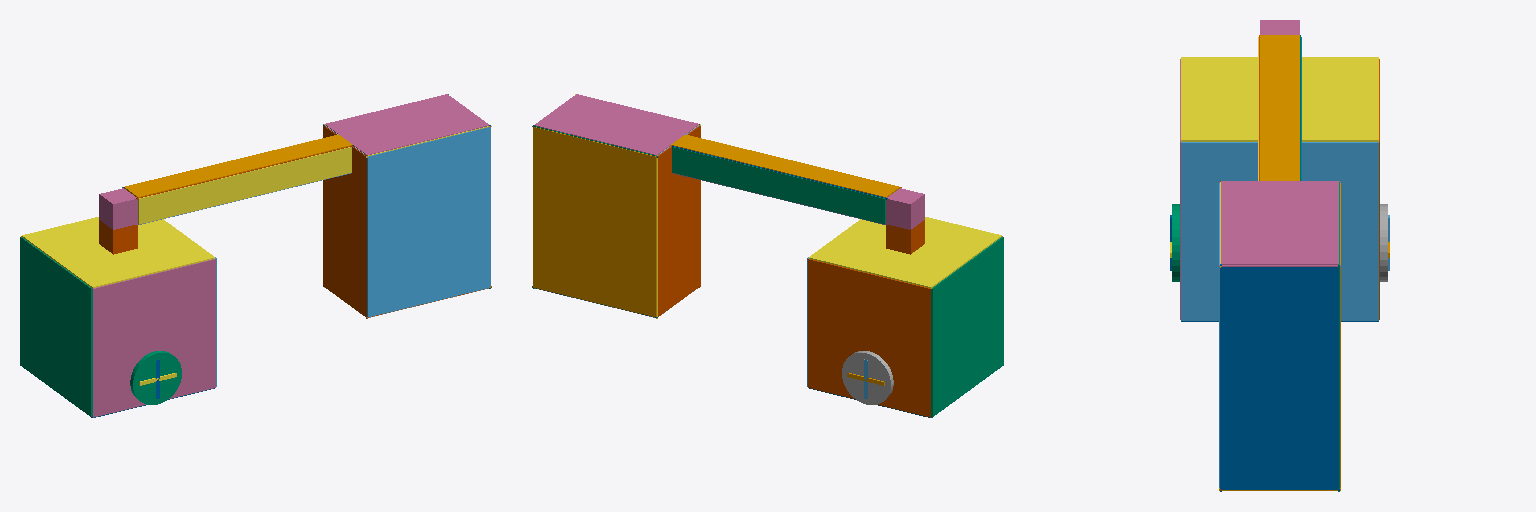
--- Render facts (derived) ---
The picture shows the robot from 3 angles, left to right: view 1: azimuth 30°, elevation 25°; view 2: azimuth 150°, elevation 25°; view 3: azimuth 270°, elevation 25°; orthographic projection.
Robot: robot — 55 links, 54 joints (4 continuous, 50 fixed); root link body; default pose: every joint at zero.
Visible links, largest first — view 1: hand_sensor_0_right, body_sensor_0_right, body_sensor_0_stop, body_sensor_0_top, hand_sensor_0_stop, arm_sensor_0_right, hand_sensor_0_top, arm_sensor_0_top, right_wheel, joint_2, joint_1; view 2: hand_sensor_0_left, body_sensor_0_left, body_sensor_0_stop, body_sensor_0_top, hand_sensor_0_stop, arm_sensor_0_left, hand_sensor_0_top, arm_sensor_0_top, left_wheel, joint_2, joint_1; view 3: hand_sensor_0_start, body_sensor_0_start, body_sensor_0_top, hand_sensor_0_top, arm_sensor_0_top, left_wheel, right_wheel, joint_2.
Boxes of the visible links, bbox=[...] form: hand_sensor_0_right: bbox=[367, 127, 490, 316]; body_sensor_0_right: bbox=[93, 259, 215, 417]; body_sensor_0_stop: bbox=[20, 237, 92, 416]; body_sensor_0_top: bbox=[22, 217, 214, 288]; hand_sensor_0_stop: bbox=[323, 126, 365, 316]; arm_sensor_0_right: bbox=[138, 147, 351, 224]; hand_sensor_0_top: bbox=[325, 94, 488, 154]; arm_sensor_0_top: bbox=[124, 135, 352, 197]; right_wheel: bbox=[130, 351, 181, 404]; joint_2: bbox=[99, 188, 137, 229]; joint_1: bbox=[99, 220, 137, 254]; hand_sensor_0_left: bbox=[533, 127, 656, 316]; body_sensor_0_left: bbox=[808, 259, 930, 417]; body_sensor_0_stop: bbox=[931, 237, 1003, 416]; body_sensor_0_top: bbox=[809, 217, 1001, 288]; hand_sensor_0_stop: bbox=[658, 126, 700, 316]; arm_sensor_0_left: bbox=[672, 147, 885, 224]; hand_sensor_0_top: bbox=[535, 94, 698, 154]; arm_sensor_0_top: bbox=[671, 135, 899, 197]; left_wheel: bbox=[842, 351, 893, 404]; joint_2: bbox=[886, 188, 924, 229]; joint_1: bbox=[886, 220, 924, 254]; hand_sensor_0_start: bbox=[1221, 267, 1338, 489]; body_sensor_0_start: bbox=[1181, 142, 1378, 320]; body_sensor_0_top: bbox=[1181, 57, 1378, 141]; hand_sensor_0_top: bbox=[1221, 181, 1338, 264]; arm_sensor_0_top: bbox=[1260, 35, 1299, 180]; left_wheel: bbox=[1380, 204, 1387, 281]; right_wheel: bbox=[1172, 204, 1179, 281]; joint_2: bbox=[1260, 20, 1299, 34].
Bounding box of the posed robot: 3.37 × 1.12 × 1.42 m (x, y, z).
Geometry: primitives only (box / cylinder / sphere), no mesh files.

URDF robot description (robot):
<?xml version="1.0"?>
    <robot name="robot">


    <!-- body -->
    <link name="body">
        <inertial>
            <origin xyz="0 0 0" rpy="0 0 0"/>
            <mass value="100"/>
            <inertia ixx="15" ixy="0" ixz="0" iyy="15" iyz="0" izz="15"/>
        </inertial>
        <visual>
            <origin xyz="0 0 0" rpy="0 0 0"/>
            <geometry>
                <box size="1 1 1"/>
            </geometry>
        </visual>
        <collision>
            <origin xyz="0 0 0" rpy="0 0 0"/>
            <geometry>
                <box size="1 1 1"/>
            </geometry>
        </collision>
    </link>


    <!-- body_sensor_0_start -->
    <link name="body_sensor_0_start">
        <inertial>
            <origin xyz="0 0 0" rpy="0 0 0"/>
            <mass value="0"/>
            <inertia ixx="0" ixy="0" ixz="0" iyy="0" iyz="0" izz="0"/>
        </inertial>
        <visual>
            <origin xyz="0 0 0" rpy="0 0 0"/>
            <geometry>
                <box size="0.02 1 1"/>
            </geometry>
        </visual>
        <collision>
            <origin xyz="0 0 0" rpy="0 0 0"/>
            <geometry>
                <box size="0.02 1 1"/>
            </geometry>
        </collision>
    </link>
    <!-- Joint: body, body_sensor_0_start -->
    <joint name="body_body_sensor_0_start_joint" type="fixed">
        <parent link="body"/>
        <child link="body_sensor_0_start"/>
        <origin xyz="0.5 0 0"
                rpy="0 0 0"/>
        <axis xyz="0 0 1"/>
        
    </joint>


    <!-- body_sensor_0_stop -->
    <link name="body_sensor_0_stop">
        <inertial>
            <origin xyz="0 0 0" rpy="0 0 0"/>
            <mass value="0"/>
            <inertia ixx="0" ixy="0" ixz="0" iyy="0" iyz="0" izz="0"/>
        </inertial>
        <visual>
            <origin xyz="0 0 0" rpy="0 0 0"/>
            <geometry>
                <box size="0.02 1 1"/>
            </geometry>
        </visual>
        <collision>
            <origin xyz="0 0 0" rpy="0 0 0"/>
            <geometry>
                <box size="0.02 1 1"/>
            </geometry>
        </collision>
    </link>
    <!-- Joint: body, body_sensor_0_stop -->
    <joint name="body_body_sensor_0_stop_joint" type="fixed">
        <parent link="body"/>
        <child link="body_sensor_0_stop"/>
        <origin xyz="-0.5 0 0"
                rpy="0 0 0"/>
        <axis xyz="0 0 1"/>
        
    </joint>


    <!-- body_sensor_0_top -->
    <link name="body_sensor_0_top">
        <inertial>
            <origin xyz="0 0 0" rpy="0 0 0"/>
            <mass value="0"/>
            <inertia ixx="0" ixy="0" ixz="0" iyy="0" iyz="0" izz="0"/>
        </inertial>
        <visual>
            <origin xyz="0 0 0" rpy="0 0 0"/>
            <geometry>
                <box size="1.0 1 0.02"/>
            </geometry>
        </visual>
        <collision>
            <origin xyz="0 0 0" rpy="0 0 0"/>
            <geometry>
                <box size="1.0 1 0.02"/>
            </geometry>
        </collision>
    </link>
    <!-- Joint: body, body_sensor_0_top -->
    <joint name="body_body_sensor_0_top_joint" type="fixed">
        <parent link="body"/>
        <child link="body_sensor_0_top"/>
        <origin xyz="0 0 0.5"
                rpy="0 0 0"/>
        <axis xyz="0 0 1"/>
        
    </joint>


    <!-- body_sensor_0_bottom -->
    <link name="body_sensor_0_bottom">
        <inertial>
            <origin xyz="0 0 0" rpy="0 0 0"/>
            <mass value="0"/>
            <inertia ixx="0" ixy="0" ixz="0" iyy="0" iyz="0" izz="0"/>
        </inertial>
        <visual>
            <origin xyz="0 0 0" rpy="0 0 0"/>
            <geometry>
                <box size="1.0 1 0.02"/>
            </geometry>
        </visual>
        <collision>
            <origin xyz="0 0 0" rpy="0 0 0"/>
            <geometry>
                <box size="1.0 1 0.02"/>
            </geometry>
        </collision>
    </link>
    <!-- Joint: body, body_sensor_0_bottom -->
    <joint name="body_body_sensor_0_bottom_joint" type="fixed">
        <parent link="body"/>
        <child link="body_sensor_0_bottom"/>
        <origin xyz="0 0 -0.5"
                rpy="0 0 0"/>
        <axis xyz="0 0 1"/>
        
    </joint>


    <!-- body_sensor_0_left -->
    <link name="body_sensor_0_left">
        <inertial>
            <origin xyz="0 0 0" rpy="0 0 0"/>
            <mass value="0"/>
            <inertia ixx="0" ixy="0" ixz="0" iyy="0" iyz="0" izz="0"/>
        </inertial>
        <visual>
            <origin xyz="0 0 0" rpy="0 0 0"/>
            <geometry>
                <box size="1.0 0.02 1"/>
            </geometry>
        </visual>
        <collision>
            <origin xyz="0 0 0" rpy="0 0 0"/>
            <geometry>
                <box size="1.0 0.02 1"/>
            </geometry>
        </collision>
    </link>
    <!-- Joint: body, body_sensor_0_left -->
    <joint name="body_body_sensor_0_left_joint" type="fixed">
        <parent link="body"/>
        <child link="body_sensor_0_left"/>
        <origin xyz="0 0.5 0"
                rpy="0 0 0"/>
        <axis xyz="0 0 1"/>
        
    </joint>


    <!-- body_sensor_0_right -->
    <link name="body_sensor_0_right">
        <inertial>
            <origin xyz="0 0 0" rpy="0 0 0"/>
            <mass value="0"/>
            <inertia ixx="0" ixy="0" ixz="0" iyy="0" iyz="0" izz="0"/>
        </inertial>
        <visual>
            <origin xyz="0 0 0" rpy="0 0 0"/>
            <geometry>
                <box size="1.0 0.02 1"/>
            </geometry>
        </visual>
        <collision>
            <origin xyz="0 0 0" rpy="0 0 0"/>
            <geometry>
                <box size="1.0 0.02 1"/>
            </geometry>
        </collision>
    </link>
    <!-- Joint: body, body_sensor_0_right -->
    <joint name="body_body_sensor_0_right_joint" type="fixed">
        <parent link="body"/>
        <child link="body_sensor_0_right"/>
        <origin xyz="0 -0.5 0"
                rpy="0 0 0"/>
        <axis xyz="0 0 1"/>
        
    </joint>


    <!-- left_wheel -->
    <link name="left_wheel">
        <inertial>
            <origin xyz="0 0 0" rpy="0 0 0"/>
            <mass value="0.1"/>
            <inertia ixx="0" ixy="0" ixz="0" iyy="0" iyz="0" izz="0"/>
        </inertial>
        <visual>
            <origin xyz="0 0 0" rpy="0 0 0"/>
            <geometry>
                <cylinder radius="0.2" length="0.1"/>
            </geometry>
        </visual>
        <collision>
            <origin xyz="0 0 0" rpy="0 0 0"/>
            <geometry>
                <cylinder radius="0.2" length="0.1"/>
            </geometry>
        </collision>
    </link>
    <!-- Joint: body, left_wheel -->
    <joint name="body_left_wheel_joint" type="continuous">
        <parent link="body"/>
        <child link="left_wheel"/>
        <origin xyz="0 0.5 -0.3"
                rpy="1.5708 0 0"/>
        <axis xyz="0 0 1"/>
        <limit lower="0" upper="0" effort="0" velocity="0"/>
    </joint>


    <!-- left_spoke_1 -->
    <link name="left_spoke_1">
        <inertial>
            <origin xyz="0 0 0" rpy="0 0 0"/>
            <mass value="0"/>
            <inertia ixx="0" ixy="0" ixz="0" iyy="0" iyz="0" izz="0"/>
        </inertial>
        <visual>
            <origin xyz="0 0 0" rpy="0 0 0"/>
            <geometry>
                <box size="0.3 0.03 0.1"/>
            </geometry>
        </visual>
        <collision>
            <origin xyz="0 0 0" rpy="0 0 0"/>
            <geometry>
                <box size="0.3 0.03 0.1"/>
            </geometry>
        </collision>
    </link>
    <!-- Joint: left_wheel, left_spoke_1 -->
    <joint name="left_wheel_left_spoke_1_joint" type="fixed">
        <parent link="left_wheel"/>
        <child link="left_spoke_1"/>
        <origin xyz="0 0 -0.01"
                rpy="0 0 0"/>
        <axis xyz="0 0 1"/>
        
    </joint>


    <!-- left_spoke_2 -->
    <link name="left_spoke_2">
        <inertial>
            <origin xyz="0 0 0" rpy="0 0 0"/>
            <mass value="0"/>
            <inertia ixx="0" ixy="0" ixz="0" iyy="0" iyz="0" izz="0"/>
        </inertial>
        <visual>
            <origin xyz="0 0 0" rpy="0 0 0"/>
            <geometry>
                <box size="0.03 0.3 0.1"/>
            </geometry>
        </visual>
        <collision>
            <origin xyz="0 0 0" rpy="0 0 0"/>
            <geometry>
                <box size="0.03 0.3 0.1"/>
            </geometry>
        </collision>
    </link>
    <!-- Joint: left_wheel, left_spoke_2 -->
    <joint name="left_wheel_left_spoke_2_joint" type="fixed">
        <parent link="left_wheel"/>
        <child link="left_spoke_2"/>
        <origin xyz="0 0 -0.01"
                rpy="0 0 0"/>
        <axis xyz="0 0 1"/>
        
    </joint>


    <!-- right_wheel -->
    <link name="right_wheel">
        <inertial>
            <origin xyz="0 0 0" rpy="0 0 0"/>
            <mass value="0.1"/>
            <inertia ixx="0" ixy="0" ixz="0" iyy="0" iyz="0" izz="0"/>
        </inertial>
        <visual>
            <origin xyz="0 0 0" rpy="0 0 0"/>
            <geometry>
                <cylinder radius="0.2" length="0.1"/>
            </geometry>
        </visual>
        <collision>
            <origin xyz="0 0 0" rpy="0 0 0"/>
            <geometry>
                <cylinder radius="0.2" length="0.1"/>
            </geometry>
        </collision>
    </link>
    <!-- Joint: body, right_wheel -->
    <joint name="body_right_wheel_joint" type="continuous">
        <parent link="body"/>
        <child link="right_wheel"/>
        <origin xyz="0 -0.5 -0.3"
                rpy="1.5708 0 0"/>
        <axis xyz="0 0 1"/>
        <limit lower="0" upper="0" effort="0" velocity="0"/>
    </joint>


    <!-- right_spoke_1 -->
    <link name="right_spoke_1">
        <inertial>
            <origin xyz="0 0 0" rpy="0 0 0"/>
            <mass value="0"/>
            <inertia ixx="0" ixy="0" ixz="0" iyy="0" iyz="0" izz="0"/>
        </inertial>
        <visual>
            <origin xyz="0 0 0" rpy="0 0 0"/>
            <geometry>
                <box size="0.3 0.03 0.1"/>
            </geometry>
        </visual>
        <collision>
            <origin xyz="0 0 0" rpy="0 0 0"/>
            <geometry>
                <box size="0.3 0.03 0.1"/>
            </geometry>
        </collision>
    </link>
    <!-- Joint: right_wheel, right_spoke_1 -->
    <joint name="right_wheel_right_spoke_1_joint" type="fixed">
        <parent link="right_wheel"/>
        <child link="right_spoke_1"/>
        <origin xyz="0 0 0.01"
                rpy="0 0 0"/>
        <axis xyz="0 0 1"/>
        
    </joint>


    <!-- right_spoke_2 -->
    <link name="right_spoke_2">
        <inertial>
            <origin xyz="0 0 0" rpy="0 0 0"/>
            <mass value="0"/>
            <inertia ixx="0" ixy="0" ixz="0" iyy="0" iyz="0" izz="0"/>
        </inertial>
        <visual>
            <origin xyz="0 0 0" rpy="0 0 0"/>
            <geometry>
                <box size="0.03 0.3 0.1"/>
            </geometry>
        </visual>
        <collision>
            <origin xyz="0 0 0" rpy="0 0 0"/>
            <geometry>
                <box size="0.03 0.3 0.1"/>
            </geometry>
        </collision>
    </link>
    <!-- Joint: right_wheel, right_spoke_2 -->
    <joint name="right_wheel_right_spoke_2_joint" type="fixed">
        <parent link="right_wheel"/>
        <child link="right_spoke_2"/>
        <origin xyz="0 0 0.01"
                rpy="0 0 0"/>
        <axis xyz="0 0 1"/>
        
    </joint>


    <!-- joint_1 -->
    <link name="joint_1">
        <inertial>
            <origin xyz="0 0 0" rpy="0 0 0"/>
            <mass value="2"/>
            <inertia ixx="0.01" ixy="0" ixz="0" iyy="0.01" iyz="0" izz="0.01"/>
        </inertial>
        <visual>
            <origin xyz="0 0 0" rpy="0 0 0"/>
            <geometry>
                <box size="0.2 0.2 0.2"/>
            </geometry>
        </visual>
        <collision>
            <origin xyz="0 0 0" rpy="0 0 0"/>
            <geometry>
                <box size="0.2 0.2 0.2"/>
            </geometry>
        </collision>
    </link>
    <!-- Joint: body, joint_1 -->
    <joint name="body_joint_1_joint" type="continuous">
        <parent link="body"/>
        <child link="joint_1"/>
        <origin xyz="0 0 0.6"
                rpy="0 0 0"/>
        <axis xyz="0 0 1"/>
        <limit lower="-0.7853981633974483" upper="0.7853981633974483" effort="999" velocity="999"/>
    </joint>


    <!-- joint_2 -->
    <link name="joint_2">
        <inertial>
            <origin xyz="0 0 0" rpy="0 0 0"/>
            <mass value="2"/>
            <inertia ixx="0.01" ixy="0" ixz="0" iyy="0.01" iyz="0" izz="0.01"/>
        </inertial>
        <visual>
            <origin xyz="0 0 0" rpy="0 0 0"/>
            <geometry>
                <box size="0.2 0.2 0.2"/>
            </geometry>
        </visual>
        <collision>
            <origin xyz="0 0 0" rpy="0 0 0"/>
            <geometry>
                <box size="0.2 0.2 0.2"/>
            </geometry>
        </collision>
    </link>
    <!-- Joint: joint_1, joint_2 -->
    <joint name="joint_1_joint_2_joint" type="continuous">
        <parent link="joint_1"/>
        <child link="joint_2"/>
        <origin xyz="0 0 0.2"
                rpy="0 0 0"/>
        <axis xyz="0 1 0"/>
        <limit lower="-1.5707963267948966" upper="0" effort="999" velocity="999"/>
    </joint>


    <!-- arm -->
    <link name="arm">
        <inertial>
            <origin xyz="0 0 0" rpy="0 0 0"/>
            <mass value="2"/>
            <inertia ixx="0.01" ixy="0" ixz="0" iyy="1.25" iyz="0" izz="1.25"/>
        </inertial>
        <visual>
            <origin xyz="0 0 0" rpy="0 0 0"/>
            <geometry>
                <box size="1.75 0.2 0.2"/>
            </geometry>
        </visual>
        <collision>
            <origin xyz="0 0 0" rpy="0 0 0"/>
            <geometry>
                <box size="1.75 0.2 0.2"/>
            </geometry>
        </collision>
    </link>


    <!-- arm_sensor_0_top -->
    <link name="arm_sensor_0_top">
        <inertial>
            <origin xyz="0 0 0" rpy="0 0 0"/>
            <mass value="0"/>
            <inertia ixx="0" ixy="0" ixz="0" iyy="0" iyz="0" izz="0"/>
        </inertial>
        <visual>
            <origin xyz="0 0 0" rpy="0 0 0"/>
            <geometry>
                <box size="1.75 0.2 0.02"/>
            </geometry>
        </visual>
        <collision>
            <origin xyz="0 0 0" rpy="0 0 0"/>
            <geometry>
                <box size="1.75 0.2 0.02"/>
            </geometry>
        </collision>
    </link>
    <!-- Joint: arm, arm_sensor_0_top -->
    <joint name="arm_arm_sensor_0_top_joint" type="fixed">
        <parent link="arm"/>
        <child link="arm_sensor_0_top"/>
        <origin xyz="0 0 0.1"
                rpy="0 0 0"/>
        <axis xyz="0 1 0"/>
        
    </joint>


    <!-- arm_sensor_0_bottom -->
    <link name="arm_sensor_0_bottom">
        <inertial>
            <origin xyz="0 0 0" rpy="0 0 0"/>
            <mass value="0"/>
            <inertia ixx="0" ixy="0" ixz="0" iyy="0" iyz="0" izz="0"/>
        </inertial>
        <visual>
            <origin xyz="0 0 0" rpy="0 0 0"/>
            <geometry>
                <box size="1.75 0.2 0.02"/>
            </geometry>
        </visual>
        <collision>
            <origin xyz="0 0 0" rpy="0 0 0"/>
            <geometry>
                <box size="1.75 0.2 0.02"/>
            </geometry>
        </collision>
    </link>
    <!-- Joint: arm, arm_sensor_0_bottom -->
    <joint name="arm_arm_sensor_0_bottom_joint" type="fixed">
        <parent link="arm"/>
        <child link="arm_sensor_0_bottom"/>
        <origin xyz="0 0 -0.1"
                rpy="0 0 0"/>
        <axis xyz="0 1 0"/>
        
    </joint>


    <!-- arm_sensor_0_left -->
    <link name="arm_sensor_0_left">
        <inertial>
            <origin xyz="0 0 0" rpy="0 0 0"/>
            <mass value="0"/>
            <inertia ixx="0" ixy="0" ixz="0" iyy="0" iyz="0" izz="0"/>
        </inertial>
        <visual>
            <origin xyz="0 0 0" rpy="0 0 0"/>
            <geometry>
                <box size="1.75 0.02 0.2"/>
            </geometry>
        </visual>
        <collision>
            <origin xyz="0 0 0" rpy="0 0 0"/>
            <geometry>
                <box size="1.75 0.02 0.2"/>
            </geometry>
        </collision>
    </link>
    <!-- Joint: arm, arm_sensor_0_left -->
    <joint name="arm_arm_sensor_0_left_joint" type="fixed">
        <parent link="arm"/>
        <child link="arm_sensor_0_left"/>
        <origin xyz="0 0.1 0"
                rpy="0 0 0"/>
        <axis xyz="0 1 0"/>
        
    </joint>


    <!-- arm_sensor_0_right -->
    <link name="arm_sensor_0_right">
        <inertial>
            <origin xyz="0 0 0" rpy="0 0 0"/>
            <mass value="0"/>
            <inertia ixx="0" ixy="0" ixz="0" iyy="0" iyz="0" izz="0"/>
        </inertial>
        <visual>
            <origin xyz="0 0 0" rpy="0 0 0"/>
            <geometry>
                <box size="1.75 0.02 0.2"/>
            </geometry>
        </visual>
        <collision>
            <origin xyz="0 0 0" rpy="0 0 0"/>
            <geometry>
                <box size="1.75 0.02 0.2"/>
            </geometry>
        </collision>
    </link>
    <!-- Joint: arm, arm_sensor_0_right -->
    <joint name="arm_arm_sensor_0_right_joint" type="fixed">
        <parent link="arm"/>
        <child link="arm_sensor_0_right"/>
        <origin xyz="0 -0.1 0"
                rpy="0 0 0"/>
        <axis xyz="0 1 0"/>
        
    </joint>
    <!-- Joint: joint_2, arm -->
    <joint name="joint_2_arm_joint" type="fixed">
        <parent link="joint_2"/>
        <child link="arm"/>
        <origin xyz="0.975 0 0"
                rpy="0 0 0"/>
        <axis xyz="0 1 0"/>
        
    </joint>


    <!-- arm_outline_1 -->
    <link name="arm_outline_1">
        <inertial>
            <origin xyz="0 0 0" rpy="0 0 0"/>
            <mass value="0"/>
            <inertia ixx="0" ixy="0" ixz="0" iyy="0" iyz="0" izz="0"/>
        </inertial>
        <visual>
            <origin xyz="0 0 0" rpy="0 0 0"/>
            <geometry>
                <box size="1.77 0.01 0.01"/>
            </geometry>
        </visual>
        <collision>
            <origin xyz="0 0 0" rpy="0 0 0"/>
            <geometry>
                <box size="1.77 0.01 0.01"/>
            </geometry>
        </collision>
    </link>
    <!-- Joint: arm, arm_outline_1 -->
    <joint name="arm_arm_outline_1_joint" type="fixed">
        <parent link="arm"/>
        <child link="arm_outline_1"/>
        <origin xyz="0 0.1 0.1"
                rpy="0 0 0"/>
        <axis xyz="0 1 0"/>
        
    </joint>


    <!-- arm_outline_2 -->
    <link name="arm_outline_2">
        <inertial>
            <origin xyz="0 0 0" rpy="0 0 0"/>
            <mass value="0"/>
            <inertia ixx="0" ixy="0" ixz="0" iyy="0" iyz="0" izz="0"/>
        </inertial>
        <visual>
            <origin xyz="0 0 0" rpy="0 0 0"/>
            <geometry>
                <box size="1.77 0.01 0.01"/>
            </geometry>
        </visual>
        <collision>
            <origin xyz="0 0 0" rpy="0 0 0"/>
            <geometry>
                <box size="1.77 0.01 0.01"/>
            </geometry>
        </collision>
    </link>
    <!-- Joint: arm, arm_outline_2 -->
    <joint name="arm_arm_outline_2_joint" type="fixed">
        <parent link="arm"/>
        <child link="arm_outline_2"/>
        <origin xyz="0 -0.1 0.1"
                rpy="0 0 0"/>
        <axis xyz="0 1 0"/>
        
    </joint>


    <!-- arm_outline_3 -->
    <link name="arm_outline_3">
        <inertial>
            <origin xyz="0 0 0" rpy="0 0 0"/>
            <mass value="0"/>
            <inertia ixx="0" ixy="0" ixz="0" iyy="0" iyz="0" izz="0"/>
        </inertial>
        <visual>
            <origin xyz="0 0 0" rpy="0 0 0"/>
            <geometry>
                <box size="1.77 0.01 0.01"/>
            </geometry>
        </visual>
        <collision>
            <origin xyz="0 0 0" rpy="0 0 0"/>
            <geometry>
                <box size="1.77 0.01 0.01"/>
            </geometry>
        </collision>
    </link>
    <!-- Joint: arm, arm_outline_3 -->
    <joint name="arm_arm_outline_3_joint" type="fixed">
        <parent link="arm"/>
        <child link="arm_outline_3"/>
        <origin xyz="0 0.1 -0.1"
                rpy="0 0 0"/>
        <axis xyz="0 1 0"/>
        
    </joint>


    <!-- arm_outline_4 -->
    <link name="arm_outline_4">
        <inertial>
            <origin xyz="0 0 0" rpy="0 0 0"/>
            <mass value="0"/>
            <inertia ixx="0" ixy="0" ixz="0" iyy="0" iyz="0" izz="0"/>
        </inertial>
        <visual>
            <origin xyz="0 0 0" rpy="0 0 0"/>
            <geometry>
                <box size="1.77 0.01 0.01"/>
            </geometry>
        </visual>
        <collision>
            <origin xyz="0 0 0" rpy="0 0 0"/>
            <geometry>
                <box size="1.77 0.01 0.01"/>
            </geometry>
        </collision>
    </link>
    <!-- Joint: arm, arm_outline_4 -->
    <joint name="arm_arm_outline_4_joint" type="fixed">
        <parent link="arm"/>
        <child link="arm_outline_4"/>
        <origin xyz="0 -0.1 -0.1"
                rpy="0 0 0"/>
        <axis xyz="0 1 0"/>
        
    </joint>


    <!-- arm_outline_5 -->
    <link name="arm_outline_5">
        <inertial>
            <origin xyz="0 0 0" rpy="0 0 0"/>
            <mass value="0"/>
            <inertia ixx="0" ixy="0" ixz="0" iyy="0" iyz="0" izz="0"/>
        </inertial>
        <visual>
            <origin xyz="0 0 0" rpy="0 0 0"/>
            <geometry>
                <box size="0.01 0.01 0.22"/>
            </geometry>
        </visual>
        <collision>
            <origin xyz="0 0 0" rpy="0 0 0"/>
            <geometry>
                <box size="0.01 0.01 0.22"/>
            </geometry>
        </collision>
    </link>
    <!-- Joint: arm, arm_outline_5 -->
    <joint name="arm_arm_outline_5_joint" type="fixed">
        <parent link="arm"/>
        <child link="arm_outline_5"/>
        <origin xyz="0.875 0.1 0"
                rpy="0 0 0"/>
        <axis xyz="0 1 0"/>
        
    </joint>


    <!-- arm_outline_6 -->
    <link name="arm_outline_6">
        <inertial>
            <origin xyz="0 0 0" rpy="0 0 0"/>
            <mass value="0"/>
            <inertia ixx="0" ixy="0" ixz="0" iyy="0" iyz="0" izz="0"/>
        </inertial>
        <visual>
            <origin xyz="0 0 0" rpy="0 0 0"/>
            <geometry>
                <box size="0.01 0.01 0.22"/>
            </geometry>
        </visual>
        <collision>
            <origin xyz="0 0 0" rpy="0 0 0"/>
            <geometry>
                <box size="0.01 0.01 0.22"/>
            </geometry>
        </collision>
    </link>
    <!-- Joint: arm, arm_outline_6 -->
    <joint name="arm_arm_outline_6_joint" type="fixed">
        <parent link="arm"/>
        <child link="arm_outline_6"/>
        <origin xyz="0.875 -0.1 0"
                rpy="0 0 0"/>
        <axis xyz="0 1 0"/>
        
    </joint>


    <!-- arm_outline_7 -->
    <link name="arm_outline_7">
        <inertial>
            <origin xyz="0 0 0" rpy="0 0 0"/>
            <mass value="0"/>
            <inertia ixx="0" ixy="0" ixz="0" iyy="0" iyz="0" izz="0"/>
        </inertial>
        <visual>
            <origin xyz="0 0 0" rpy="0 0 0"/>
            <geometry>
                <box size="0.01 0.22 0.01"/>
            </geometry>
        </visual>
        <collision>
            <origin xyz="0 0 0" rpy="0 0 0"/>
            <geometry>
                <box size="0.01 0.22 0.01"/>
            </geometry>
        </collision>
    </link>
    <!-- Joint: arm, arm_outline_7 -->
    <joint name="arm_arm_outline_7_joint" type="fixed">
        <parent link="arm"/>
        <child link="arm_outline_7"/>
        <origin xyz="0.875 0 -0.1"
                rpy="0 0 0"/>
        <axis xyz="0 1 0"/>
        
    </joint>


    <!-- hand -->
    <link name="hand">
        <inertial>
            <origin xyz="0 0 0" rpy="0 0 0"/>
            <mass value="2"/>
            <inertia ixx="0.3" ixy="0" ixz="0" iyy="0.4" iyz="0" izz="0.2"/>
        </inertial>
        <visual>
            <origin xyz="0 0 0" rpy="0 0 0"/>
            <geometry>
                <box size="1 0.6000000000000001 1.25"/>
            </geometry>
        </visual>
        <collision>
            <origin xyz="0 0 0" rpy="0 0 0"/>
            <geometry>
                <box size="1 0.6000000000000001 1.25"/>
            </geometry>
        </collision>
    </link>


    <!-- hand_sensor_0_start -->
    <link name="hand_sensor_0_start">
        <inertial>
            <origin xyz="0 0 0" rpy="0 0 0"/>
            <mass value="0"/>
            <inertia ixx="0" ixy="0" ixz="0" iyy="0" iyz="0" izz="0"/>
        </inertial>
        <visual>
            <origin xyz="0 0 0" rpy="0 0 0"/>
            <geometry>
                <box size="0.02 0.6000000000000001 1.25"/>
            </geometry>
        </visual>
        <collision>
            <origin xyz="0 0 0" rpy="0 0 0"/>
            <geometry>
                <box size="0.02 0.6000000000000001 1.25"/>
            </geometry>
        </collision>
    </link>
    <!-- Joint: hand, hand_sensor_0_start -->
    <joint name="hand_hand_sensor_0_start_joint" type="fixed">
        <parent link="hand"/>
        <child link="hand_sensor_0_start"/>
        <origin xyz="0.5 0 0"
                rpy="0 0 0"/>
        <axis xyz="0 1 0"/>
        
    </joint>


    <!-- hand_sensor_0_stop -->
    <link name="hand_sensor_0_stop">
        <inertial>
            <origin xyz="0 0 0" rpy="0 0 0"/>
            <mass value="0"/>
            <inertia ixx="0" ixy="0" ixz="0" iyy="0" iyz="0" izz="0"/>
        </inertial>
        <visual>
            <origin xyz="0 0 0" rpy="0 0 0"/>
            <geometry>
                <box size="0.02 0.6000000000000001 1.25"/>
            </geometry>
        </visual>
        <collision>
            <origin xyz="0 0 0" rpy="0 0 0"/>
            <geometry>
                <box size="0.02 0.6000000000000001 1.25"/>
            </geometry>
        </collision>
    </link>
    <!-- Joint: hand, hand_sensor_0_stop -->
    <joint name="hand_hand_sensor_0_stop_joint" type="fixed">
        <parent link="hand"/>
        <child link="hand_sensor_0_stop"/>
        <origin xyz="-0.5 0 0"
                rpy="0 0 0"/>
        <axis xyz="0 1 0"/>
        
    </joint>


    <!-- hand_sensor_0_top -->
    <link name="hand_sensor_0_top">
        <inertial>
            <origin xyz="0 0 0" rpy="0 0 0"/>
            <mass value="0"/>
            <inertia ixx="0" ixy="0" ixz="0" iyy="0" iyz="0" izz="0"/>
        </inertial>
        <visual>
            <origin xyz="0 0 0" rpy="0 0 0"/>
            <geometry>
                <box size="1.0 0.6000000000000001 0.02"/>
            </geometry>
        </visual>
        <collision>
            <origin xyz="0 0 0" rpy="0 0 0"/>
            <geometry>
                <box size="1.0 0.6000000000000001 0.02"/>
            </geometry>
        </collision>
    </link>
    <!-- Joint: hand, hand_sensor_0_top -->
    <joint name="hand_hand_sensor_0_top_joint" type="fixed">
        <parent link="hand"/>
        <child link="hand_sensor_0_top"/>
        <origin xyz="0 0 0.625"
                rpy="0 0 0"/>
        <axis xyz="0 1 0"/>
        
    </joint>


    <!-- hand_sensor_0_bottom -->
    <link name="hand_sensor_0_bottom">
        <inertial>
            <origin xyz="0 0 0" rpy="0 0 0"/>
            <mass value="0"/>
            <inertia ixx="0" ixy="0" ixz="0" iyy="0" iyz="0" izz="0"/>
        </inertial>
        <visual>
            <origin xyz="0 0 0" rpy="0 0 0"/>
            <geometry>
                <box size="1.0 0.6000000000000001 0.02"/>
            </geometry>
        </visual>
        <collision>
            <origin xyz="0 0 0" rpy="0 0 0"/>
            <geometry>
                <box size="1.0 0.6000000000000001 0.02"/>
            </geometry>
        </collision>
    </link>
    <!-- Joint: hand, hand_sensor_0_bottom -->
    <joint name="hand_hand_sensor_0_bottom_joint" type="fixed">
        <parent link="hand"/>
        <child link="hand_sensor_0_bottom"/>
        <origin xyz="0 0 -0.625"
                rpy="0 0 0"/>
        <axis xyz="0 1 0"/>
        
    </joint>


    <!-- hand_sensor_0_left -->
    <link name="hand_sensor_0_left">
        <inertial>
            <origin xyz="0 0 0" rpy="0 0 0"/>
            <mass value="0"/>
            <inertia ixx="0" ixy="0" ixz="0" iyy="0" iyz="0" izz="0"/>
        </inertial>
        <visual>
            <origin xyz="0 0 0" rpy="0 0 0"/>
            <geometry>
                <box size="1.0 0.02 1.25"/>
            </geometry>
        </visual>
        <collision>
            <origin xyz="0 0 0" rpy="0 0 0"/>
            <geometry>
                <box size="1.0 0.02 1.25"/>
            </geometry>
        </collision>
    </link>
    <!-- Joint: hand, hand_sensor_0_left -->
    <joint name="hand_hand_sensor_0_left_joint" type="fixed">
        <parent link="hand"/>
        <child link="hand_sensor_0_left"/>
        <origin xyz="0 0.30000000000000004 0"
                rpy="0 0 0"/>
        <axis xyz="0 1 0"/>
        
    </joint>


    <!-- hand_sensor_0_right -->
    <link name="hand_sensor_0_right">
        <inertial>
            <origin xyz="0 0 0" rpy="0 0 0"/>
            <mass value="0"/>
            <inertia ixx="0" ixy="0" ixz="0" iyy="0" iyz="0" izz="0"/>
        </inertial>
        <visual>
            <origin xyz="0 0 0" rpy="0 0 0"/>
            <geometry>
                <box size="1.0 0.02 1.25"/>
            </geometry>
        </visual>
        <collision>
            <origin xyz="0 0 0" rpy="0 0 0"/>
            <geometry>
                <box size="1.0 0.02 1.25"/>
            </geometry>
        </collision>
    </link>
    <!-- Joint: hand, hand_sensor_0_right -->
    <joint name="hand_hand_sensor_0_right_joint" type="fixed">
        <parent link="hand"/>
        <child link="hand_sensor_0_right"/>
        <origin xyz="0 -0.30000000000000004 0"
                rpy="0 0 0"/>
        <axis xyz="0 1 0"/>
        
    </joint>
    <!-- Joint: arm, hand -->
    <joint name="arm_hand_joint" type="fixed">
        <parent link="arm"/>
        <child link="hand"/>
        <origin xyz="1.375 0 -0.525"
                rpy="0 0 0"/>
        <axis xyz="0 1 0"/>
        
    </joint>


    <!-- hand_outline_1 -->
    <link name="hand_outline_1">
        <inertial>
            <origin xyz="0 0 0" rpy="0 0 0"/>
            <mass value="0"/>
            <inertia ixx="0" ixy="0" ixz="0" iyy="0" iyz="0" izz="0"/>
        </inertial>
        <visual>
            <origin xyz="0 0 0" rpy="0 0 0"/>
            <geometry>
                <box size="1.02 0.01 0.01"/>
            </geometry>
        </visual>
        <collision>
            <origin xyz="0 0 0" rpy="0 0 0"/>
            <geometry>
                <box size="1.02 0.01 0.01"/>
            </geometry>
        </collision>
    </link>
    <!-- Joint: hand, hand_outline_1 -->
    <joint name="hand_hand_outline_1_joint" type="fixed">
        <parent link="hand"/>
        <child link="hand_outline_1"/>
        <origin xyz="0 0.30000000000000004 0.625"
                rpy="0 0 0"/>
        <axis xyz="0 1 0"/>
        
    </joint>


    <!-- hand_outline_2 -->
    <link name="hand_outline_2">
        <inertial>
            <origin xyz="0 0 0" rpy="0 0 0"/>
            <mass value="0"/>
            <inertia ixx="0" ixy="0" ixz="0" iyy="0" iyz="0" izz="0"/>
        </inertial>
        <visual>
            <origin xyz="0 0 0" rpy="0 0 0"/>
            <geometry>
                <box size="1.02 0.01 0.01"/>
            </geometry>
        </visual>
        <collision>
            <origin xyz="0 0 0" rpy="0 0 0"/>
            <geometry>
                <box size="1.02 0.01 0.01"/>
            </geometry>
        </collision>
    </link>
    <!-- Joint: hand, hand_outline_2 -->
    <joint name="hand_hand_outline_2_joint" type="fixed">
        <parent link="hand"/>
        <child link="hand_outline_2"/>
        <origin xyz="0 -0.30000000000000004 0.625"
                rpy="0 0 0"/>
        <axis xyz="0 1 0"/>
        
    </joint>


    <!-- hand_outline_3 -->
    <link name="hand_outline_3">
        <inertial>
            <origin xyz="0 0 0" rpy="0 0 0"/>
            <mass value="0"/>
            <inertia ixx="0" ixy="0" ixz="0" iyy="0" iyz="0" izz="0"/>
        </inertial>
        <visual>
            <origin xyz="0 0 0" rpy="0 0 0"/>
            <geometry>
                <box size="1.02 0.01 0.01"/>
            </geometry>
        </visual>
        <collision>
            <origin xyz="0 0 0" rpy="0 0 0"/>
            <geometry>
                <box size="1.02 0.01 0.01"/>
            </geometry>
        </collision>
    </link>
    <!-- Joint: hand, hand_outline_3 -->
    <joint name="hand_hand_outline_3_joint" type="fixed">
        <parent link="hand"/>
        <child link="hand_outline_3"/>
        <origin xyz="0 0.30000000000000004 -0.625"
                rpy="0 0 0"/>
        <axis xyz="0 1 0"/>
        
    </joint>


    <!-- hand_outline_4 -->
    <link name="hand_outline_4">
        <inertial>
            <origin xyz="0 0 0" rpy="0 0 0"/>
            <mass value="0"/>
            <inertia ixx="0" ixy="0" ixz="0" iyy="0" iyz="0" izz="0"/>
        </inertial>
        <visual>
            <origin xyz="0 0 0" rpy="0 0 0"/>
            <geometry>
                <box size="1.02 0.01 0.01"/>
            </geometry>
        </visual>
        <collision>
            <origin xyz="0 0 0" rpy="0 0 0"/>
            <geometry>
                <box size="1.02 0.01 0.01"/>
            </geometry>
        </collision>
    </link>
    <!-- Joint: hand, hand_outline_4 -->
    <joint name="hand_hand_outline_4_joint" type="fixed">
        <parent link="hand"/>
        <child link="hand_outline_4"/>
        <origin xyz="0 -0.30000000000000004 -0.625"
                rpy="0 0 0"/>
        <axis xyz="0 1 0"/>
        
    </joint>


    <!-- hand_outline_5 -->
    <link name="hand_outline_5">
        <inertial>
            <origin xyz="0 0 0" rpy="0 0 0"/>
            <mass value="0"/>
            <inertia ixx="0" ixy="0" ixz="0" iyy="0" iyz="0" izz="0"/>
        </inertial>
        <visual>
            <origin xyz="0 0 0" rpy="0 0 0"/>
            <geometry>
                <box size="0.01 0.6200000000000001 0.01"/>
            </geometry>
        </visual>
        <collision>
            <origin xyz="0 0 0" rpy="0 0 0"/>
            <geometry>
                <box size="0.01 0.6200000000000001 0.01"/>
            </geometry>
        </collision>
    </link>
    <!-- Joint: hand, hand_outline_5 -->
    <joint name="hand_hand_outline_5_joint" type="fixed">
        <parent link="hand"/>
        <child link="hand_outline_5"/>
        <origin xyz="0.5 0 0.625"
                rpy="0 0 0"/>
        <axis xyz="0 1 0"/>
        
    </joint>


    <!-- hand_outline_6 -->
    <link name="hand_outline_6">
        <inertial>
            <origin xyz="0 0 0" rpy="0 0 0"/>
            <mass value="0"/>
            <inertia ixx="0" ixy="0" ixz="0" iyy="0" iyz="0" izz="0"/>
        </inertial>
        <visual>
            <origin xyz="0 0 0" rpy="0 0 0"/>
            <geometry>
                <box size="0.01 0.6200000000000001 0.01"/>
            </geometry>
        </visual>
        <collision>
            <origin xyz="0 0 0" rpy="0 0 0"/>
            <geometry>
                <box size="0.01 0.6200000000000001 0.01"/>
            </geometry>
        </collision>
    </link>
    <!-- Joint: hand, hand_outline_6 -->
    <joint name="hand_hand_outline_6_joint" type="fixed">
        <parent link="hand"/>
        <child link="hand_outline_6"/>
        <origin xyz="-0.5 0 0.625"
                rpy="0 0 0"/>
        <axis xyz="0 1 0"/>
        
    </joint>


    <!-- hand_outline_7 -->
    <link name="hand_outline_7">
        <inertial>
            <origin xyz="0 0 0" rpy="0 0 0"/>
            <mass value="0"/>
            <inertia ixx="0" ixy="0" ixz="0" iyy="0" iyz="0" izz="0"/>
        </inertial>
        <visual>
            <origin xyz="0 0 0" rpy="0 0 0"/>
            <geometry>
                <box size="0.01 0.6200000000000001 0.01"/>
            </geometry>
        </visual>
        <collision>
            <origin xyz="0 0 0" rpy="0 0 0"/>
            <geometry>
                <box size="0.01 0.6200000000000001 0.01"/>
            </geometry>
        </collision>
    </link>
    <!-- Joint: hand, hand_outline_7 -->
    <joint name="hand_hand_outline_7_joint" type="fixed">
        <parent link="hand"/>
        <child link="hand_outline_7"/>
        <origin xyz="0.5 0 -0.625"
                rpy="0 0 0"/>
        <axis xyz="0 1 0"/>
        
    </joint>


    <!-- hand_outline_8 -->
    <link name="hand_outline_8">
        <inertial>
            <origin xyz="0 0 0" rpy="0 0 0"/>
            <mass value="0"/>
            <inertia ixx="0" ixy="0" ixz="0" iyy="0" iyz="0" izz="0"/>
        </inertial>
        <visual>
            <origin xyz="0 0 0" rpy="0 0 0"/>
            <geometry>
                <box size="0.01 0.6200000000000001 0.01"/>
            </geometry>
        </visual>
        <collision>
            <origin xyz="0 0 0" rpy="0 0 0"/>
            <geometry>
                <box size="0.01 0.6200000000000001 0.01"/>
            </geometry>
        </collision>
    </link>
    <!-- Joint: hand, hand_outline_8 -->
    <joint name="hand_hand_outline_8_joint" type="fixed">
        <parent link="hand"/>
        <child link="hand_outline_8"/>
        <origin xyz="-0.5 0 -0.625"
                rpy="0 0 0"/>
        <axis xyz="0 1 0"/>
        
    </joint>


    <!-- hand_outline_9 -->
    <link name="hand_outline_9">
        <inertial>
            <origin xyz="0 0 0" rpy="0 0 0"/>
            <mass value="0"/>
            <inertia ixx="0" ixy="0" ixz="0" iyy="0" iyz="0" izz="0"/>
        </inertial>
        <visual>
            <origin xyz="0 0 0" rpy="0 0 0"/>
            <geometry>
                <box size="0.01 0.01 1.27"/>
            </geometry>
        </visual>
        <collision>
            <origin xyz="0 0 0" rpy="0 0 0"/>
            <geometry>
                <box size="0.01 0.01 1.27"/>
            </geometry>
        </collision>
    </link>
    <!-- Joint: hand, hand_outline_9 -->
    <joint name="hand_hand_outline_9_joint" type="fixed">
        <parent link="hand"/>
        <child link="hand_outline_9"/>
        <origin xyz="0.5 0.30000000000000004 0"
                rpy="0 0 0"/>
        <axis xyz="0 1 0"/>
        
    </joint>


    <!-- hand_outline_10 -->
    <link name="hand_outline_10">
        <inertial>
            <origin xyz="0 0 0" rpy="0 0 0"/>
            <mass value="0"/>
            <inertia ixx="0" ixy="0" ixz="0" iyy="0" iyz="0" izz="0"/>
        </inertial>
        <visual>
            <origin xyz="0 0 0" rpy="0 0 0"/>
            <geometry>
                <box size="0.01 0.01 1.27"/>
            </geometry>
        </visual>
        <collision>
            <origin xyz="0 0 0" rpy="0 0 0"/>
            <geometry>
                <box size="0.01 0.01 1.27"/>
            </geometry>
        </collision>
    </link>
    <!-- Joint: hand, hand_outline_10 -->
    <joint name="hand_hand_outline_10_joint" type="fixed">
        <parent link="hand"/>
        <child link="hand_outline_10"/>
        <origin xyz="-0.5 0.30000000000000004 0"
                rpy="0 0 0"/>
        <axis xyz="0 1 0"/>
        
    </joint>


    <!-- hand_outline_11 -->
    <link name="hand_outline_11">
        <inertial>
            <origin xyz="0 0 0" rpy="0 0 0"/>
            <mass value="0"/>
            <inertia ixx="0" ixy="0" ixz="0" iyy="0" iyz="0" izz="0"/>
        </inertial>
        <visual>
            <origin xyz="0 0 0" rpy="0 0 0"/>
            <geometry>
                <box size="0.01 0.01 1.27"/>
            </geometry>
        </visual>
        <collision>
            <origin xyz="0 0 0" rpy="0 0 0"/>
            <geometry>
                <box size="0.01 0.01 1.27"/>
            </geometry>
        </collision>
    </link>
    <!-- Joint: hand, hand_outline_11 -->
    <joint name="hand_hand_outline_11_joint" type="fixed">
        <parent link="hand"/>
        <child link="hand_outline_11"/>
        <origin xyz="0.5 -0.30000000000000004 0"
                rpy="0 0 0"/>
        <axis xyz="0 1 0"/>
        
    </joint>


    <!-- hand_outline_12 -->
    <link name="hand_outline_12">
        <inertial>
            <origin xyz="0 0 0" rpy="0 0 0"/>
            <mass value="0"/>
            <inertia ixx="0" ixy="0" ixz="0" iyy="0" iyz="0" izz="0"/>
        </inertial>
        <visual>
            <origin xyz="0 0 0" rpy="0 0 0"/>
            <geometry>
                <box size="0.01 0.01 1.27"/>
            </geometry>
        </visual>
        <collision>
            <origin xyz="0 0 0" rpy="0 0 0"/>
            <geometry>
                <box size="0.01 0.01 1.27"/>
            </geometry>
        </collision>
    </link>
    <!-- Joint: hand, hand_outline_12 -->
    <joint name="hand_hand_outline_12_joint" type="fixed">
        <parent link="hand"/>
        <child link="hand_outline_12"/>
        <origin xyz="-0.5 -0.30000000000000004 0"
                rpy="0 0 0"/>
        <axis xyz="0 1 0"/>
        
    </joint>


    <!-- body_face_front_0 -->
    <link name="body_face_front_0">
        <inertial>
            <origin xyz="0 0 0" rpy="0 0 0"/>
            <mass value="0"/>
            <inertia ixx="0.05" ixy="0.05" ixz="0.05" iyy="0.05" iyz="0.05" izz="0.05"/>
        </inertial>
        <visual>
            <origin xyz="0 0 0" rpy="0 0 0"/>
            <geometry>
                <box size="0.002 0.1111111111111111 0.1111111111111111"/>
            </geometry>
        </visual>
        <collision>
            <origin xyz="0 0 0" rpy="0 0 0"/>
            <geometry>
                <box size="0.002 0.1111111111111111 0.1111111111111111"/>
            </geometry>
        </collision>
    </link>
    <!-- Joint: body, body_face_front_0 -->
    <joint name="body_body_face_front_0_joint" type="fixed">
        <parent link="body"/>
        <child link="body_face_front_0"/>
        <origin xyz="0.501 -0.33333333333333337 0.11111111111111116"
                rpy="0 0 0"/>
        <axis xyz="0 0 1"/>
        
    </joint>


    <!-- body_face_front_1 -->
    <link name="body_face_front_1">
        <inertial>
            <origin xyz="0 0 0" rpy="0 0 0"/>
            <mass value="0"/>
            <inertia ixx="0.05" ixy="0.05" ixz="0.05" iyy="0.05" iyz="0.05" izz="0.05"/>
        </inertial>
        <visual>
            <origin xyz="0 0 0" rpy="0 0 0"/>
            <geometry>
                <box size="0.002 0.1111111111111111 0.1111111111111111"/>
            </geometry>
        </visual>
        <collision>
            <origin xyz="0 0 0" rpy="0 0 0"/>
            <geometry>
                <box size="0.002 0.1111111111111111 0.1111111111111111"/>
            </geometry>
        </collision>
    </link>
    <!-- Joint: body, body_face_front_1 -->
    <joint name="body_body_face_front_1_joint" type="fixed">
        <parent link="body"/>
        <child link="body_face_front_1"/>
        <origin xyz="0.501 -0.2222222222222222 0.2222222222222222"
                rpy="0 0 0"/>
        <axis xyz="0 0 1"/>
        
    </joint>


    <!-- body_face_front_2 -->
    <link name="body_face_front_2">
        <inertial>
            <origin xyz="0 0 0" rpy="0 0 0"/>
            <mass value="0"/>
            <inertia ixx="0.05" ixy="0.05" ixz="0.05" iyy="0.05" iyz="0.05" izz="0.05"/>
        </inertial>
        <visual>
            <origin xyz="0 0 0" rpy="0 0 0"/>
            <geometry>
                <box size="0.002 0.1111111111111111 0.1111111111111111"/>
            </geometry>
        </visual>
        <collision>
            <origin xyz="0 0 0" rpy="0 0 0"/>
            <geometry>
                <box size="0.002 0.1111111111111111 0.1111111111111111"/>
            </geometry>
        </collision>
    </link>
    <!-- Joint: body, body_face_front_2 -->
    <joint name="body_body_face_front_2_joint" type="fixed">
        <parent link="body"/>
        <child link="body_face_front_2"/>
        <origin xyz="0.501 -0.1111111111111111 0.11111111111111116"
                rpy="0 0 0"/>
        <axis xyz="0 0 1"/>
        
    </joint>


    <!-- body_face_front_3 -->
    <link name="body_face_front_3">
        <inertial>
            <origin xyz="0 0 0" rpy="0 0 0"/>
            <mass value="0"/>
            <inertia ixx="0.05" ixy="0.05" ixz="0.05" iyy="0.05" iyz="0.05" izz="0.05"/>
        </inertial>
        <visual>
            <origin xyz="0 0 0" rpy="0 0 0"/>
            <geometry>
                <box size="0.002 0.1111111111111111 0.1111111111111111"/>
            </geometry>
        </visual>
        <collision>
            <origin xyz="0 0 0" rpy="0 0 0"/>
            <geometry>
                <box size="0.002 0.1111111111111111 0.1111111111111111"/>
            </geometry>
        </collision>
    </link>
    <!-- Joint: body, body_face_front_3 -->
    <joint name="body_body_face_front_3_joint" type="fixed">
        <parent link="body"/>
        <child link="body_face_front_3"/>
        <origin xyz="0.501 -0.1111111111111111 -0.2222222222222222"
                rpy="0 0 0"/>
        <axis xyz="0 0 1"/>
        
    </joint>


    <!-- body_face_front_4 -->
    <link name="body_face_front_4">
        <inertial>
            <origin xyz="0 0 0" rpy="0 0 0"/>
            <mass value="0"/>
            <inertia ixx="0.05" ixy="0.05" ixz="0.05" iyy="0.05" iyz="0.05" izz="0.05"/>
        </inertial>
        <visual>
            <origin xyz="0 0 0" rpy="0 0 0"/>
            <geometry>
                <box size="0.002 0.1111111111111111 0.1111111111111111"/>
            </geometry>
        </visual>
        <collision>
            <origin xyz="0 0 0" rpy="0 0 0"/>
            <geometry>
                <box size="0.002 0.1111111111111111 0.1111111111111111"/>
            </geometry>
        </collision>
    </link>
    <!-- Joint: body, body_face_front_4 -->
    <joint name="body_body_face_front_4_joint" type="fixed">
        <parent link="body"/>
        <child link="body_face_front_4"/>
        <origin xyz="0.501 0.0 -0.2222222222222222"
                rpy="0 0 0"/>
        <axis xyz="0 0 1"/>
        
    </joint>


    <!-- body_face_front_5 -->
    <link name="body_face_front_5">
        <inertial>
            <origin xyz="0 0 0" rpy="0 0 0"/>
            <mass value="0"/>
            <inertia ixx="0.05" ixy="0.05" ixz="0.05" iyy="0.05" iyz="0.05" izz="0.05"/>
        </inertial>
        <visual>
            <origin xyz="0 0 0" rpy="0 0 0"/>
            <geometry>
                <box size="0.002 0.1111111111111111 0.1111111111111111"/>
            </geometry>
        </visual>
        <collision>
            <origin xyz="0 0 0" rpy="0 0 0"/>
            <geometry>
                <box size="0.002 0.1111111111111111 0.1111111111111111"/>
            </geometry>
        </collision>
    </link>
    <!-- Joint: body, body_face_front_5 -->
    <joint name="body_body_face_front_5_joint" type="fixed">
        <parent link="body"/>
        <child link="body_face_front_5"/>
        <origin xyz="0.501 0.11111111111111116 0.11111111111111116"
                rpy="0 0 0"/>
        <axis xyz="0 0 1"/>
        
    </joint>


    <!-- body_face_front_6 -->
    <link name="body_face_front_6">
        <inertial>
            <origin xyz="0 0 0" rpy="0 0 0"/>
            <mass value="0"/>
            <inertia ixx="0.05" ixy="0.05" ixz="0.05" iyy="0.05" iyz="0.05" izz="0.05"/>
        </inertial>
        <visual>
            <origin xyz="0 0 0" rpy="0 0 0"/>
            <geometry>
                <box size="0.002 0.1111111111111111 0.1111111111111111"/>
            </geometry>
        </visual>
        <collision>
            <origin xyz="0 0 0" rpy="0 0 0"/>
            <geometry>
                <box size="0.002 0.1111111111111111 0.1111111111111111"/>
            </geometry>
        </collision>
    </link>
    <!-- Joint: body, body_face_front_6 -->
    <joint name="body_body_face_front_6_joint" type="fixed">
        <parent link="body"/>
        <child link="body_face_front_6"/>
        <origin xyz="0.501 0.11111111111111116 -0.2222222222222222"
                rpy="0 0 0"/>
        <axis xyz="0 0 1"/>
        
    </joint>


    <!-- body_face_front_7 -->
    <link name="body_face_front_7">
        <inertial>
            <origin xyz="0 0 0" rpy="0 0 0"/>
            <mass value="0"/>
            <inertia ixx="0.05" ixy="0.05" ixz="0.05" iyy="0.05" iyz="0.05" izz="0.05"/>
        </inertial>
        <visual>
            <origin xyz="0 0 0" rpy="0 0 0"/>
            <geometry>
                <box size="0.002 0.1111111111111111 0.1111111111111111"/>
            </geometry>
        </visual>
        <collision>
            <origin xyz="0 0 0" rpy="0 0 0"/>
            <geometry>
                <box size="0.002 0.1111111111111111 0.1111111111111111"/>
            </geometry>
        </collision>
    </link>
    <!-- Joint: body, body_face_front_7 -->
    <joint name="body_body_face_front_7_joint" type="fixed">
        <parent link="body"/>
        <child link="body_face_front_7"/>
        <origin xyz="0.501 0.2222222222222222 0.2222222222222222"
                rpy="0 0 0"/>
        <axis xyz="0 0 1"/>
        
    </joint>


    <!-- body_face_front_8 -->
    <link name="body_face_front_8">
        <inertial>
            <origin xyz="0 0 0" rpy="0 0 0"/>
            <mass value="0"/>
            <inertia ixx="0.05" ixy="0.05" ixz="0.05" iyy="0.05" iyz="0.05" izz="0.05"/>
        </inertial>
        <visual>
            <origin xyz="0 0 0" rpy="0 0 0"/>
            <geometry>
                <box size="0.002 0.1111111111111111 0.1111111111111111"/>
            </geometry>
        </visual>
        <collision>
            <origin xyz="0 0 0" rpy="0 0 0"/>
            <geometry>
                <box size="0.002 0.1111111111111111 0.1111111111111111"/>
            </geometry>
        </collision>
    </link>
    <!-- Joint: body, body_face_front_8 -->
    <joint name="body_body_face_front_8_joint" type="fixed">
        <parent link="body"/>
        <child link="body_face_front_8"/>
        <origin xyz="0.501 0.33333333333333337 0.11111111111111116"
                rpy="0 0 0"/>
        <axis xyz="0 0 1"/>
        
    </joint>


</robot>
